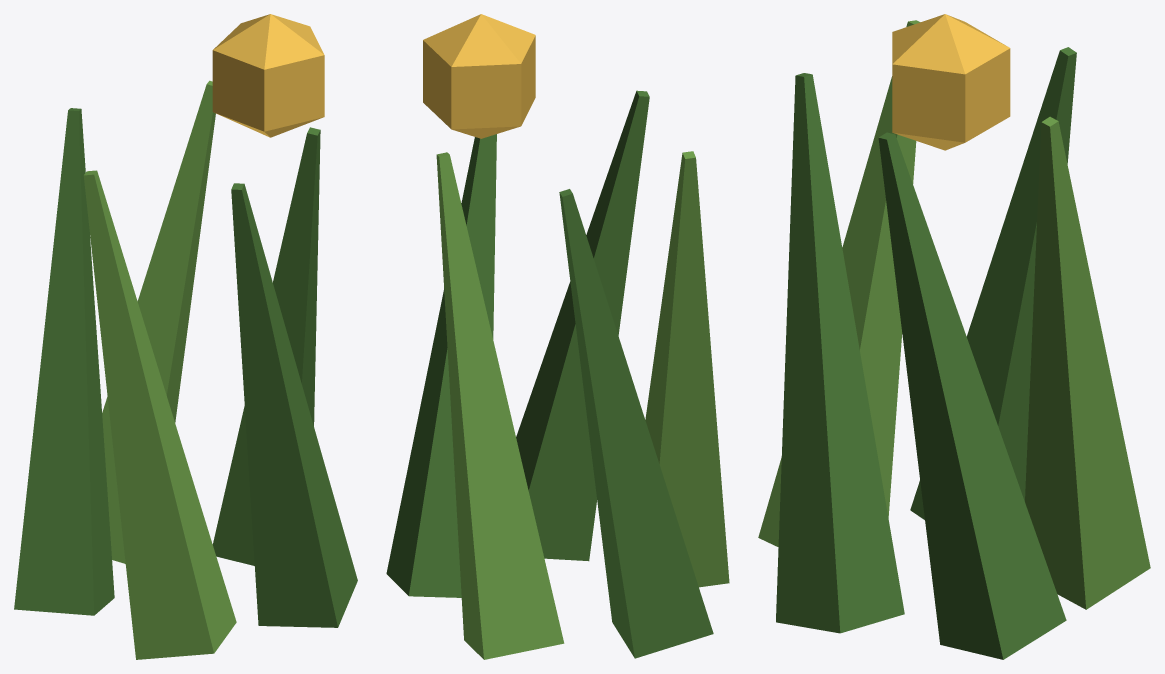
File: PR_Nature_OtTutami.fbx
3 views of the same model, side by side, from view 1: azimuth 30°, elevation 25°; view 2: azimuth 150°, elevation 25°; view 3: azimuth 270°, elevation 25° (orthographic). The views are drawn at different scales.
Visible parts, largest first — view 1: PR_Nature_OtTutami; view 2: PR_Nature_OtTutami; view 3: PR_Nature_OtTutami.
Boxes of the visible parts, x1,y1,x2,y2 form: PR_Nature_OtTutami: (14, 14, 357, 659); PR_Nature_OtTutami: (386, 14, 729, 659); PR_Nature_OtTutami: (758, 14, 1150, 659).
Size of the model in its own units: 0.184 by 0.3184 by 0.1822.
